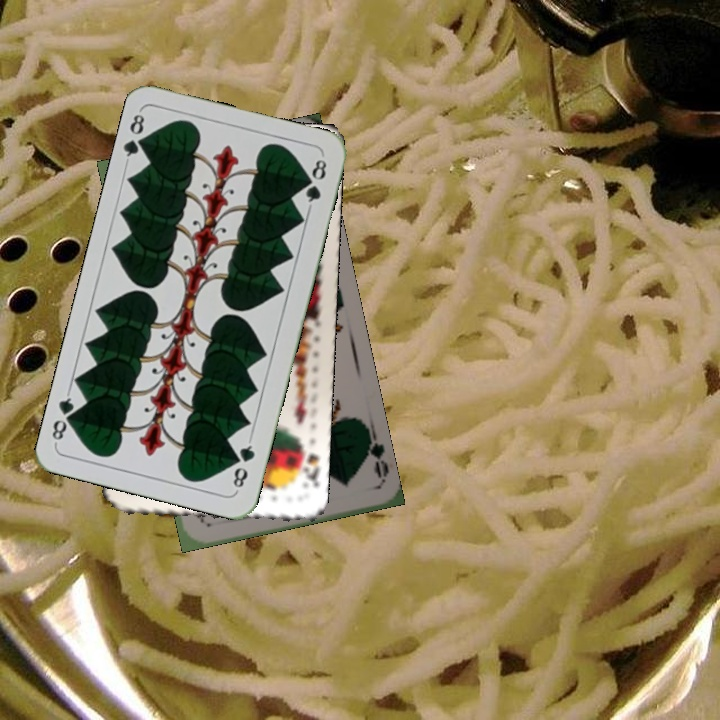G8: (120, 107, 152, 165), (229, 435, 258, 494)
GO: (359, 423, 390, 482)
SK: (294, 438, 321, 492)
